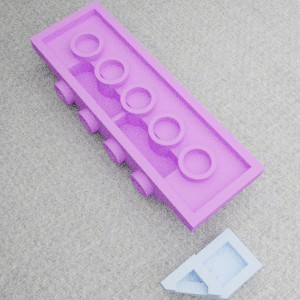lego: (29, 0, 265, 232), (160, 227, 262, 300)
